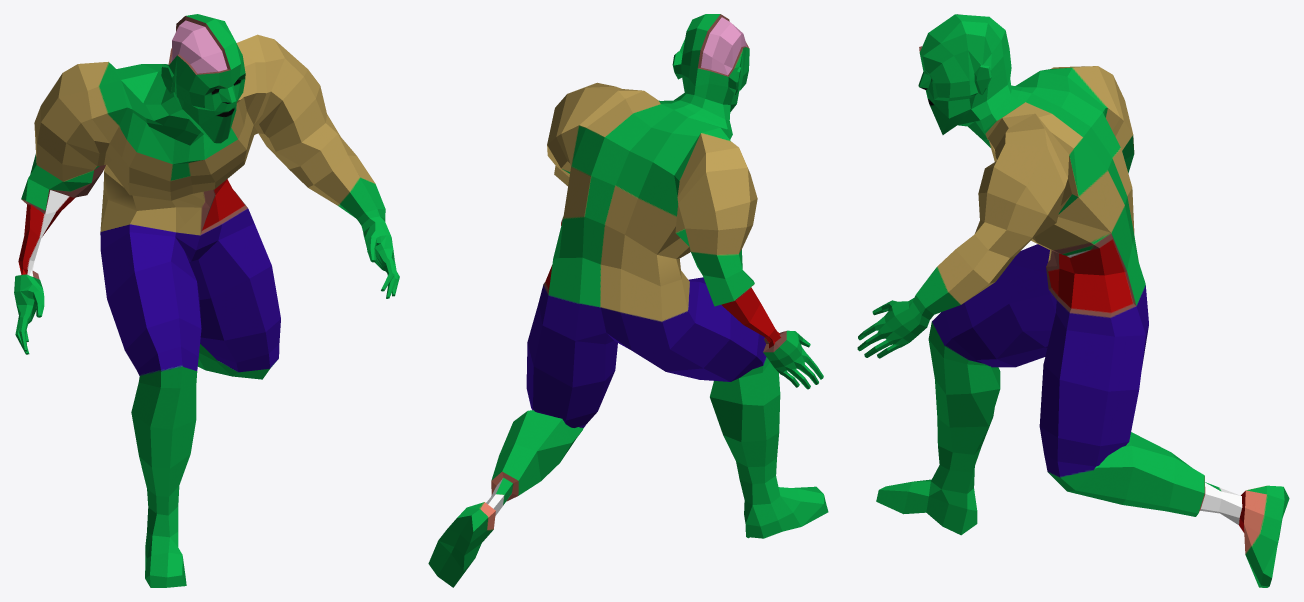
Rendered from ZombieWalk(19).obj.
3 views of the same model, side by side, from view 1: azimuth 30°, elevation 25°; view 2: azimuth 150°, elevation 25°; view 3: azimuth 270°, elevation 25° (orthographic). The views are drawn at different scales.
Parts seen in each view (by area): view 1: Plane002; view 2: Plane002; view 3: Plane002.
Part boxes in pixels (box(x1,y1,x2,y2)): Plane002: box(14, 14, 399, 587); Plane002: box(428, 14, 828, 587); Plane002: box(857, 14, 1289, 587).
Bounding box in the file's own units: 892 × 1479 × 1079.
